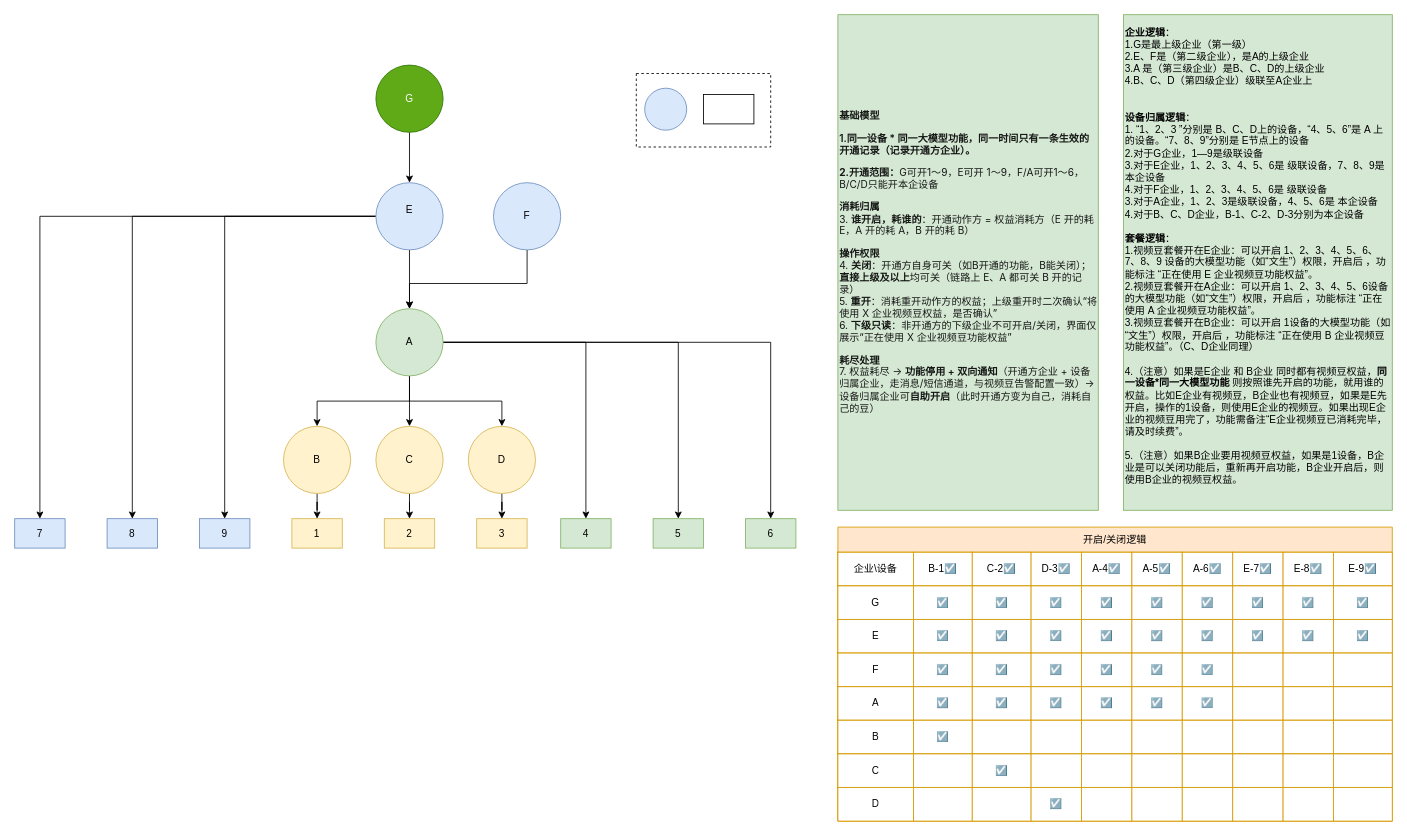
The diagram is 1407 pixels wide and 836 high, and some of its shapes have lost their labels. The centre of each missing label's shape, as x and y in pixels:
企业: point (665, 108)
设备: point (728, 109)
